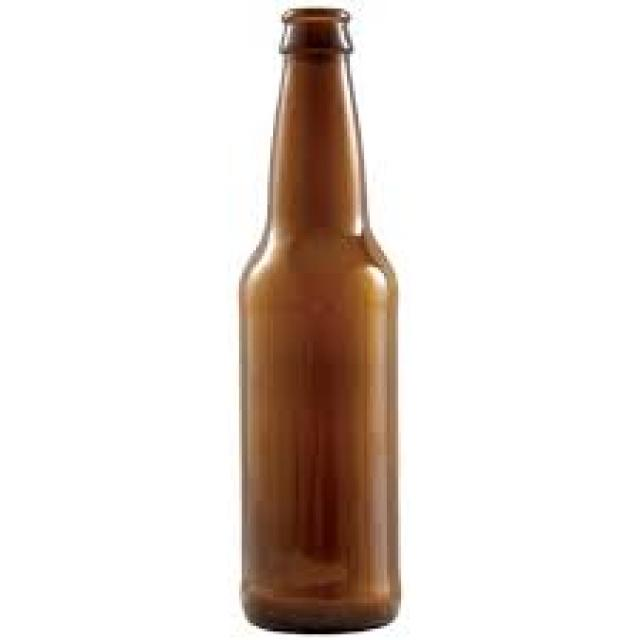glass: (236, 6, 401, 632)
